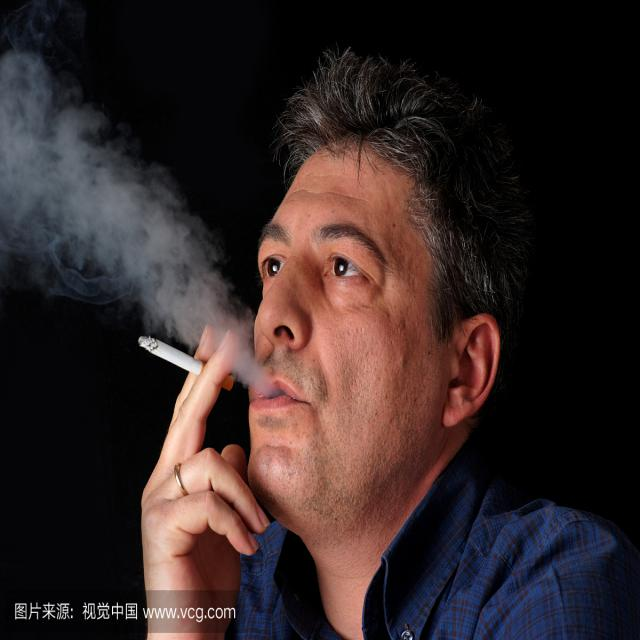smoke: (138, 327, 239, 400)
